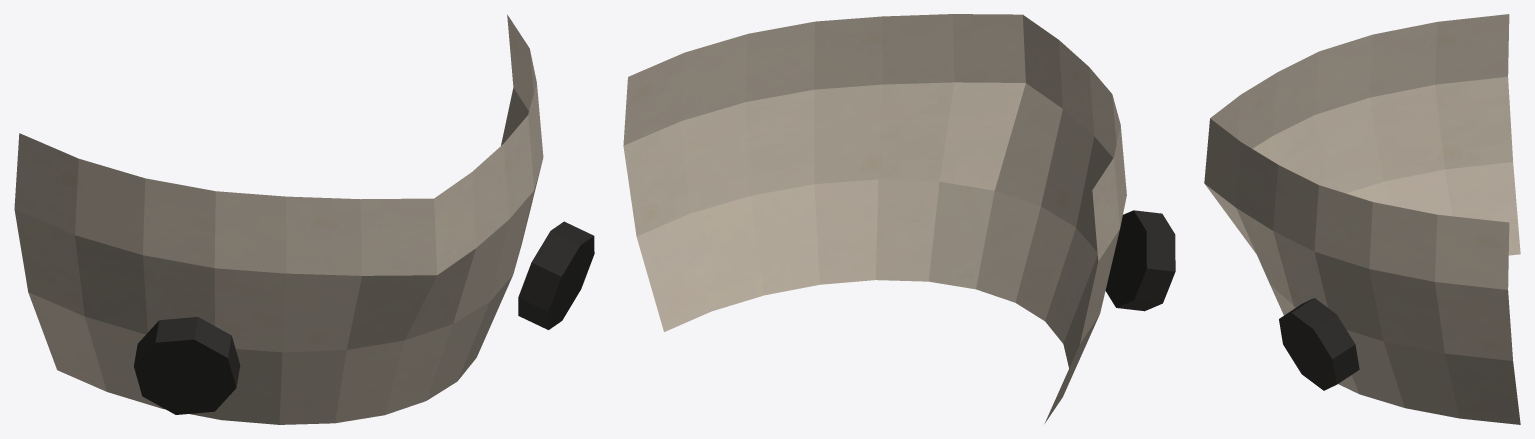
Rendered from acc_mask_half.glb.
The picture shows the model from 3 angles, left to right: view 1: azimuth 30°, elevation 25°; view 2: azimuth 150°, elevation 25°; view 3: azimuth 270°, elevation 25°; orthographic projection. The views are drawn at different scales.
Visible parts, largest first — view 1: acc_mask_half; view 2: acc_mask_half; view 3: acc_mask_half.
Boxes of the visible parts, x1=… form: acc_mask_half: x1=14, y1=14, x2=594, y2=424; acc_mask_half: x1=623, y1=14, x2=1175, y2=423; acc_mask_half: x1=1204, y1=14, x2=1520, y2=424.
Size of the model in its own units: 0.1756 by 0.085 by 0.1101.
2 materials, 2 textured.
